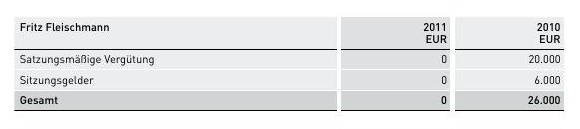table: (0, 0, 580, 129)
